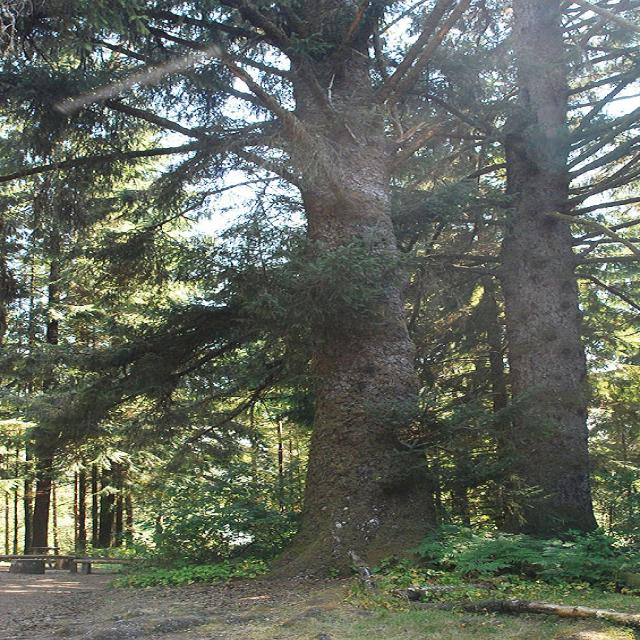Picea sitchensis: (39, 0, 510, 577), (422, 0, 640, 547)
